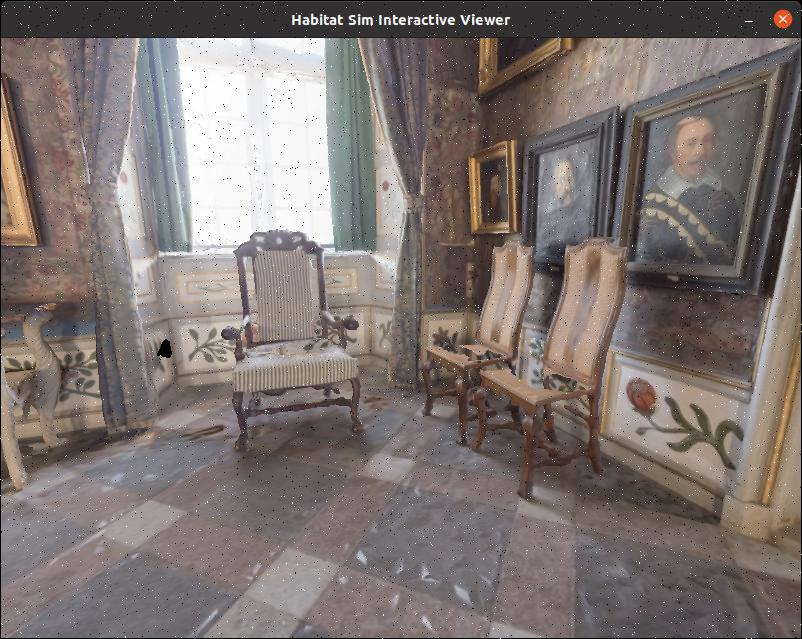chair: (460, 225, 653, 499), (211, 223, 381, 468), (417, 229, 540, 438)
